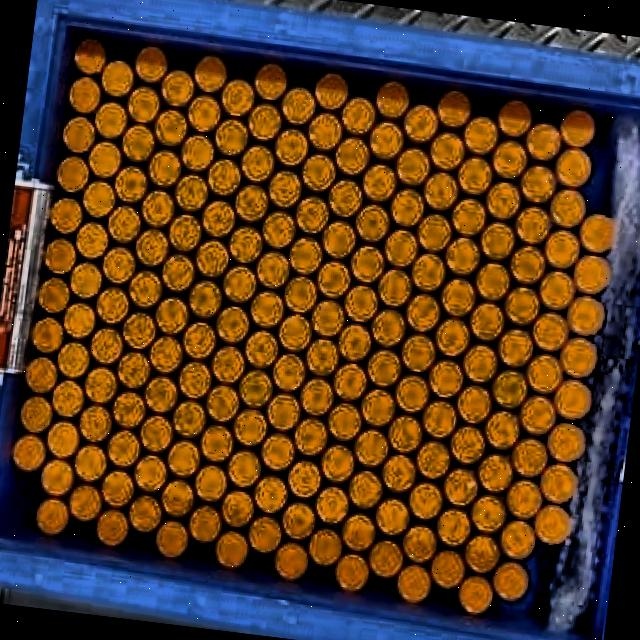vial: (456, 576, 496, 618), (534, 503, 573, 546), (493, 559, 530, 603), (519, 395, 555, 436), (511, 436, 547, 477), (477, 453, 513, 494), (579, 213, 615, 254), (499, 519, 536, 558), (547, 423, 584, 462), (554, 380, 591, 419), (421, 400, 458, 439), (549, 189, 586, 228), (47, 195, 83, 235), (449, 426, 485, 466), (444, 236, 480, 276), (220, 75, 255, 116), (492, 369, 527, 410), (538, 270, 574, 309), (396, 563, 431, 603), (368, 539, 403, 579), (347, 470, 382, 510), (320, 442, 355, 482), (408, 481, 443, 521), (430, 549, 465, 589), (471, 494, 506, 534), (556, 148, 591, 188), (287, 458, 321, 499), (527, 353, 561, 394), (41, 237, 77, 275), (505, 480, 541, 518), (423, 172, 459, 210), (244, 330, 279, 369), (247, 514, 282, 553), (253, 474, 288, 513), (374, 497, 409, 536), (457, 155, 492, 194), (497, 98, 532, 137), (375, 80, 410, 119), (121, 123, 155, 163), (380, 453, 414, 493), (465, 533, 499, 573), (542, 463, 576, 503), (533, 311, 567, 351), (561, 338, 595, 378), (568, 296, 602, 336), (402, 103, 436, 143), (369, 120, 403, 160), (456, 386, 492, 423), (514, 206, 550, 243), (485, 182, 521, 219), (491, 141, 527, 178), (146, 149, 181, 187), (186, 93, 221, 131), (87, 140, 122, 178), (250, 289, 285, 327), (415, 441, 450, 479), (387, 414, 422, 452), (239, 369, 274, 407), (469, 304, 504, 342), (417, 213, 452, 251), (544, 230, 579, 268), (274, 127, 308, 166), (181, 133, 215, 172), (107, 204, 141, 243), (262, 210, 296, 249), (194, 463, 228, 502), (315, 485, 349, 524), (436, 508, 470, 547), (444, 467, 478, 506), (485, 411, 519, 450), (360, 388, 394, 427), (334, 362, 368, 401), (232, 408, 266, 447), (172, 399, 206, 438), (462, 345, 496, 384), (498, 329, 532, 368), (266, 392, 300, 431), (154, 107, 187, 147), (69, 483, 102, 523), (354, 428, 387, 468), (301, 376, 334, 416), (206, 158, 241, 195), (126, 85, 161, 122), (34, 277, 69, 314), (475, 262, 510, 299), (383, 229, 418, 266), (574, 255, 609, 292), (308, 112, 343, 149), (160, 69, 194, 107), (173, 173, 207, 211), (122, 311, 156, 349), (128, 269, 162, 307), (188, 280, 222, 318), (255, 250, 289, 288), (311, 299, 345, 337), (78, 404, 112, 442), (12, 433, 46, 471), (220, 489, 254, 527), (341, 512, 375, 550), (327, 402, 361, 440), (367, 348, 401, 386), (429, 359, 463, 397), (272, 353, 306, 391), (440, 276, 474, 314), (480, 222, 514, 260), (452, 198, 486, 236), (328, 179, 362, 217), (526, 122, 560, 160), (464, 116, 498, 154), (437, 90, 471, 128), (395, 147, 429, 185), (362, 164, 396, 202), (341, 96, 375, 134), (254, 60, 287, 99), (248, 102, 281, 141), (235, 184, 268, 223), (114, 165, 147, 204), (95, 100, 128, 139), (155, 295, 188, 334), (228, 224, 261, 263), (322, 220, 355, 259), (36, 497, 69, 536), (390, 187, 423, 226), (521, 165, 554, 204), (301, 153, 334, 192), (261, 433, 294, 472), (296, 195, 328, 235), (290, 235, 322, 275), (275, 542, 307, 582), (335, 552, 367, 592), (210, 346, 245, 382), (83, 366, 118, 402), (143, 376, 178, 412), (100, 60, 134, 97), (133, 45, 167, 82), (241, 144, 275, 181), (161, 254, 195, 291), (201, 200, 235, 237), (282, 502, 316, 539), (178, 362, 212, 399), (435, 319, 469, 356), (411, 253, 445, 290), (350, 246, 384, 283), (355, 204, 389, 241), (62, 115, 95, 153), (62, 301, 95, 339), (96, 287, 129, 325), (89, 326, 122, 364), (168, 214, 201, 252), (216, 306, 249, 344), (19, 394, 52, 432), (51, 379, 84, 417), (46, 420, 79, 458), (107, 430, 140, 468), (113, 390, 146, 428), (167, 439, 200, 477), (294, 417, 327, 455), (402, 333, 435, 371), (228, 448, 261, 486), (505, 287, 538, 325), (512, 245, 545, 283), (561, 107, 594, 145), (336, 137, 369, 175), (70, 261, 102, 300), (103, 245, 135, 284), (308, 527, 340, 566), (403, 523, 435, 562), (372, 308, 404, 347), (97, 508, 128, 548), (408, 292, 439, 332), (40, 459, 74, 495), (75, 221, 108, 258), (182, 321, 215, 358), (278, 314, 311, 351), (30, 316, 63, 353), (24, 356, 57, 393), (100, 470, 133, 507), (133, 455, 166, 492), (188, 505, 221, 542), (395, 375, 428, 412), (206, 385, 239, 422), (316, 72, 349, 109), (282, 85, 314, 123), (269, 169, 301, 207), (57, 340, 89, 378), (155, 521, 187, 559), (161, 478, 193, 516), (215, 531, 247, 569), (344, 285, 376, 323), (430, 131, 462, 169), (142, 189, 173, 228), (149, 336, 183, 371), (73, 39, 106, 75), (67, 77, 100, 113), (215, 119, 248, 155), (56, 156, 89, 192), (135, 229, 168, 265), (200, 424, 233, 460), (306, 339, 339, 375), (194, 55, 226, 92), (81, 180, 113, 217), (129, 495, 161, 532), (141, 415, 173, 452), (378, 269, 410, 306), (196, 239, 227, 277), (339, 323, 370, 361), (317, 262, 350, 297), (117, 352, 150, 387), (223, 266, 255, 302), (75, 444, 106, 481), (286, 275, 316, 312)
